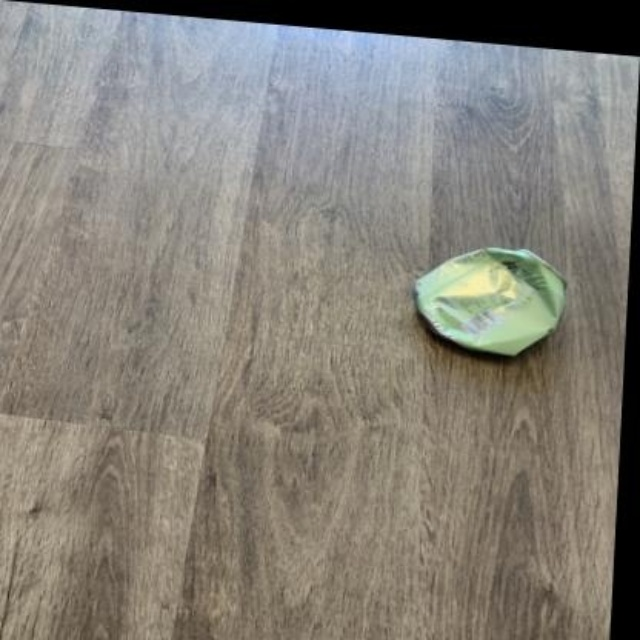trash: (415, 248, 565, 354)
